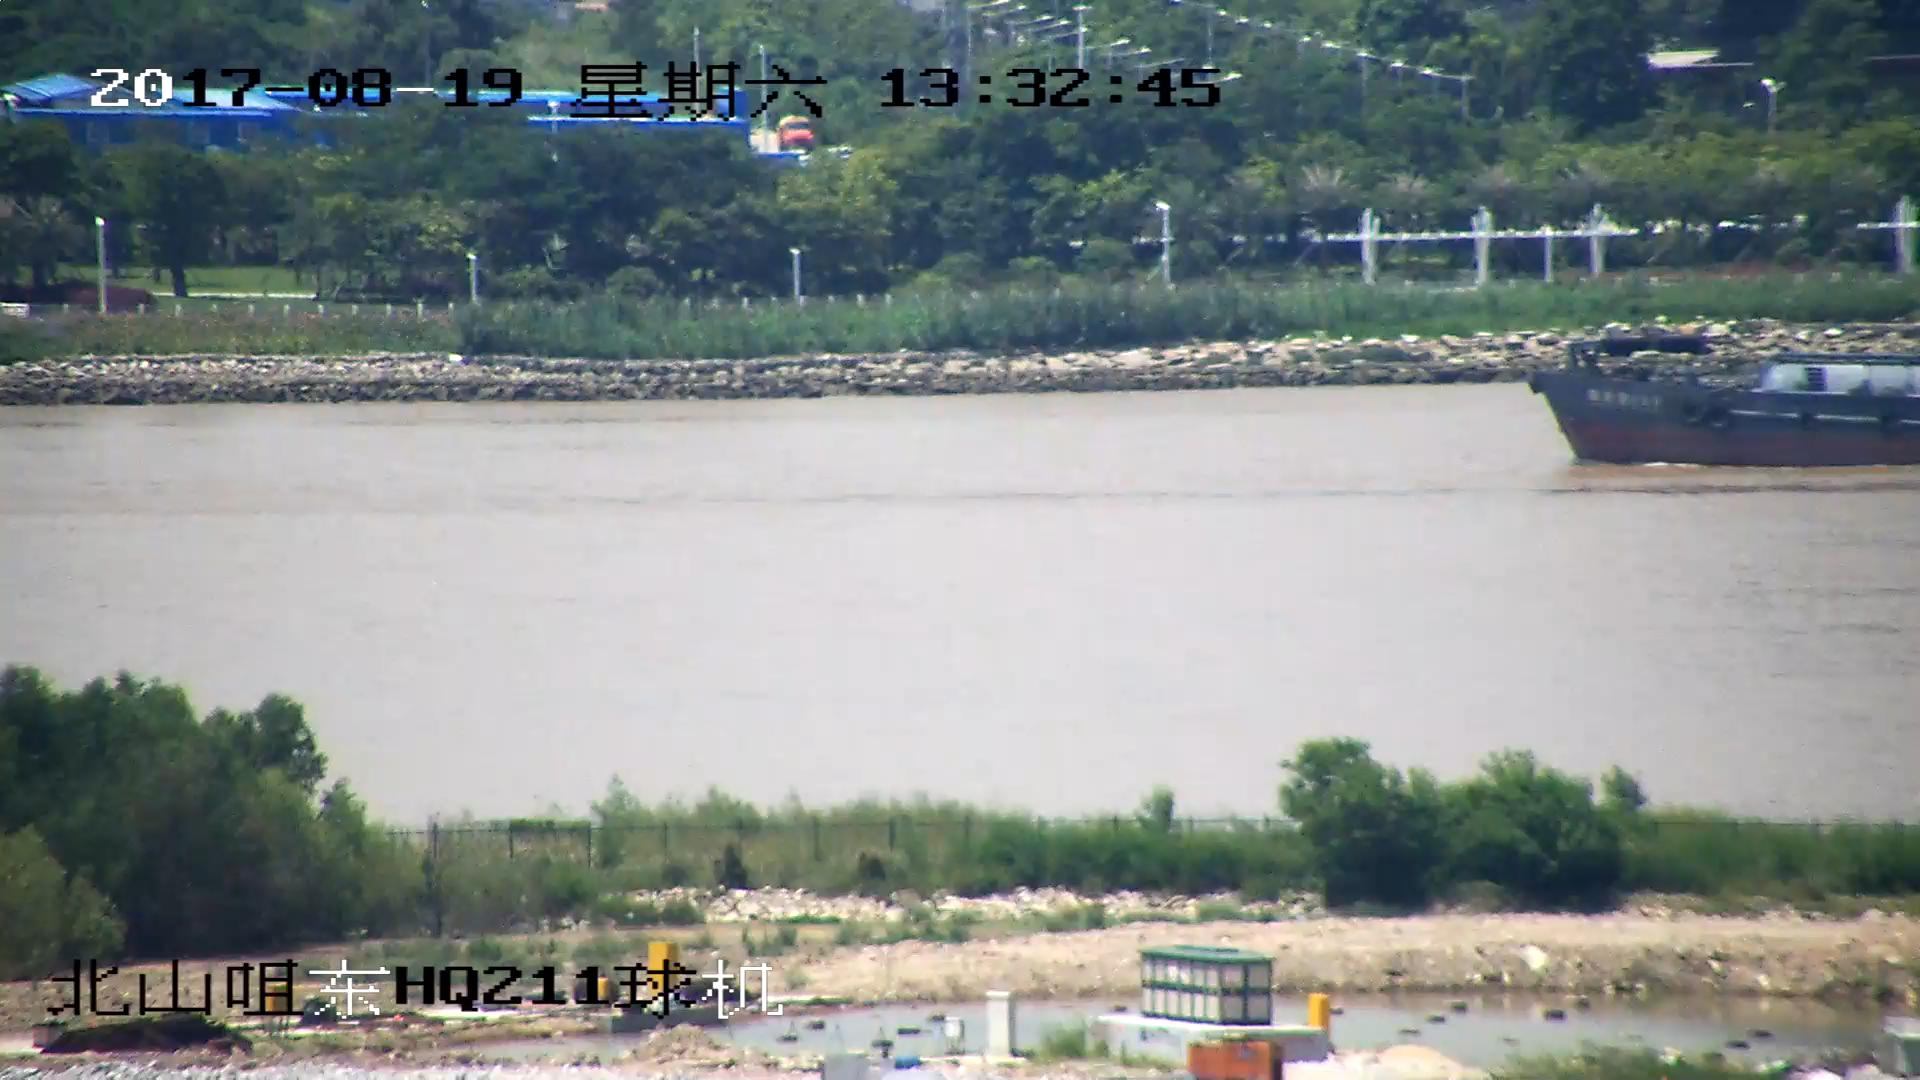bulk cargo carrier: (1522, 345, 1920, 463)
